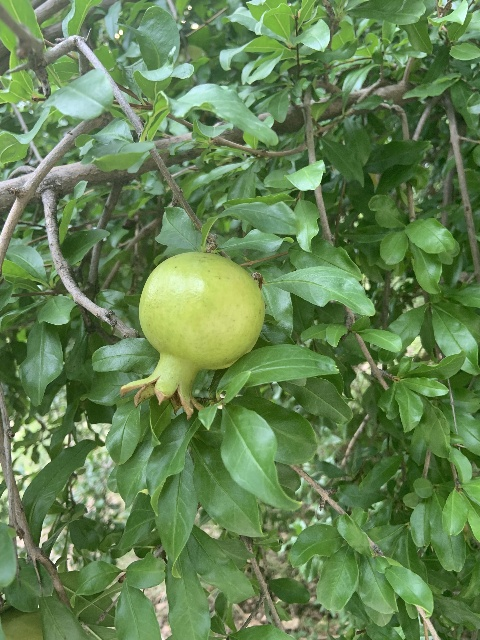mid-growth: (119, 251, 263, 419)
